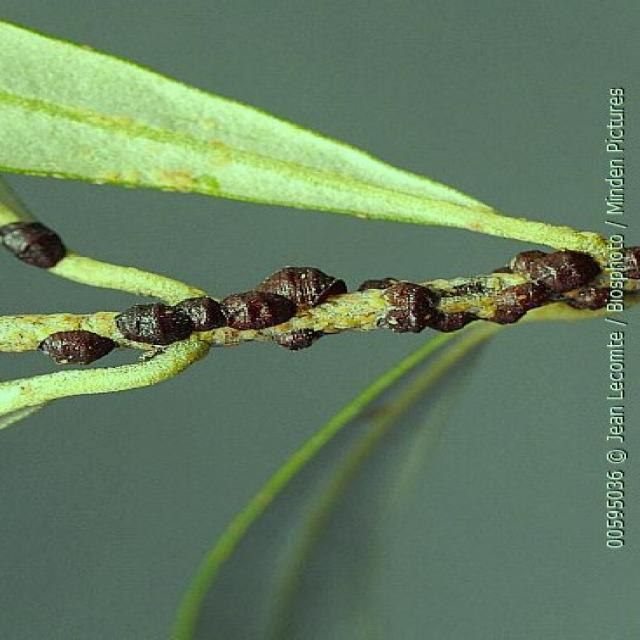BlackScale: (360, 250, 608, 335), (117, 267, 345, 345), (1, 222, 64, 270), (38, 330, 116, 364), (274, 328, 322, 350)
